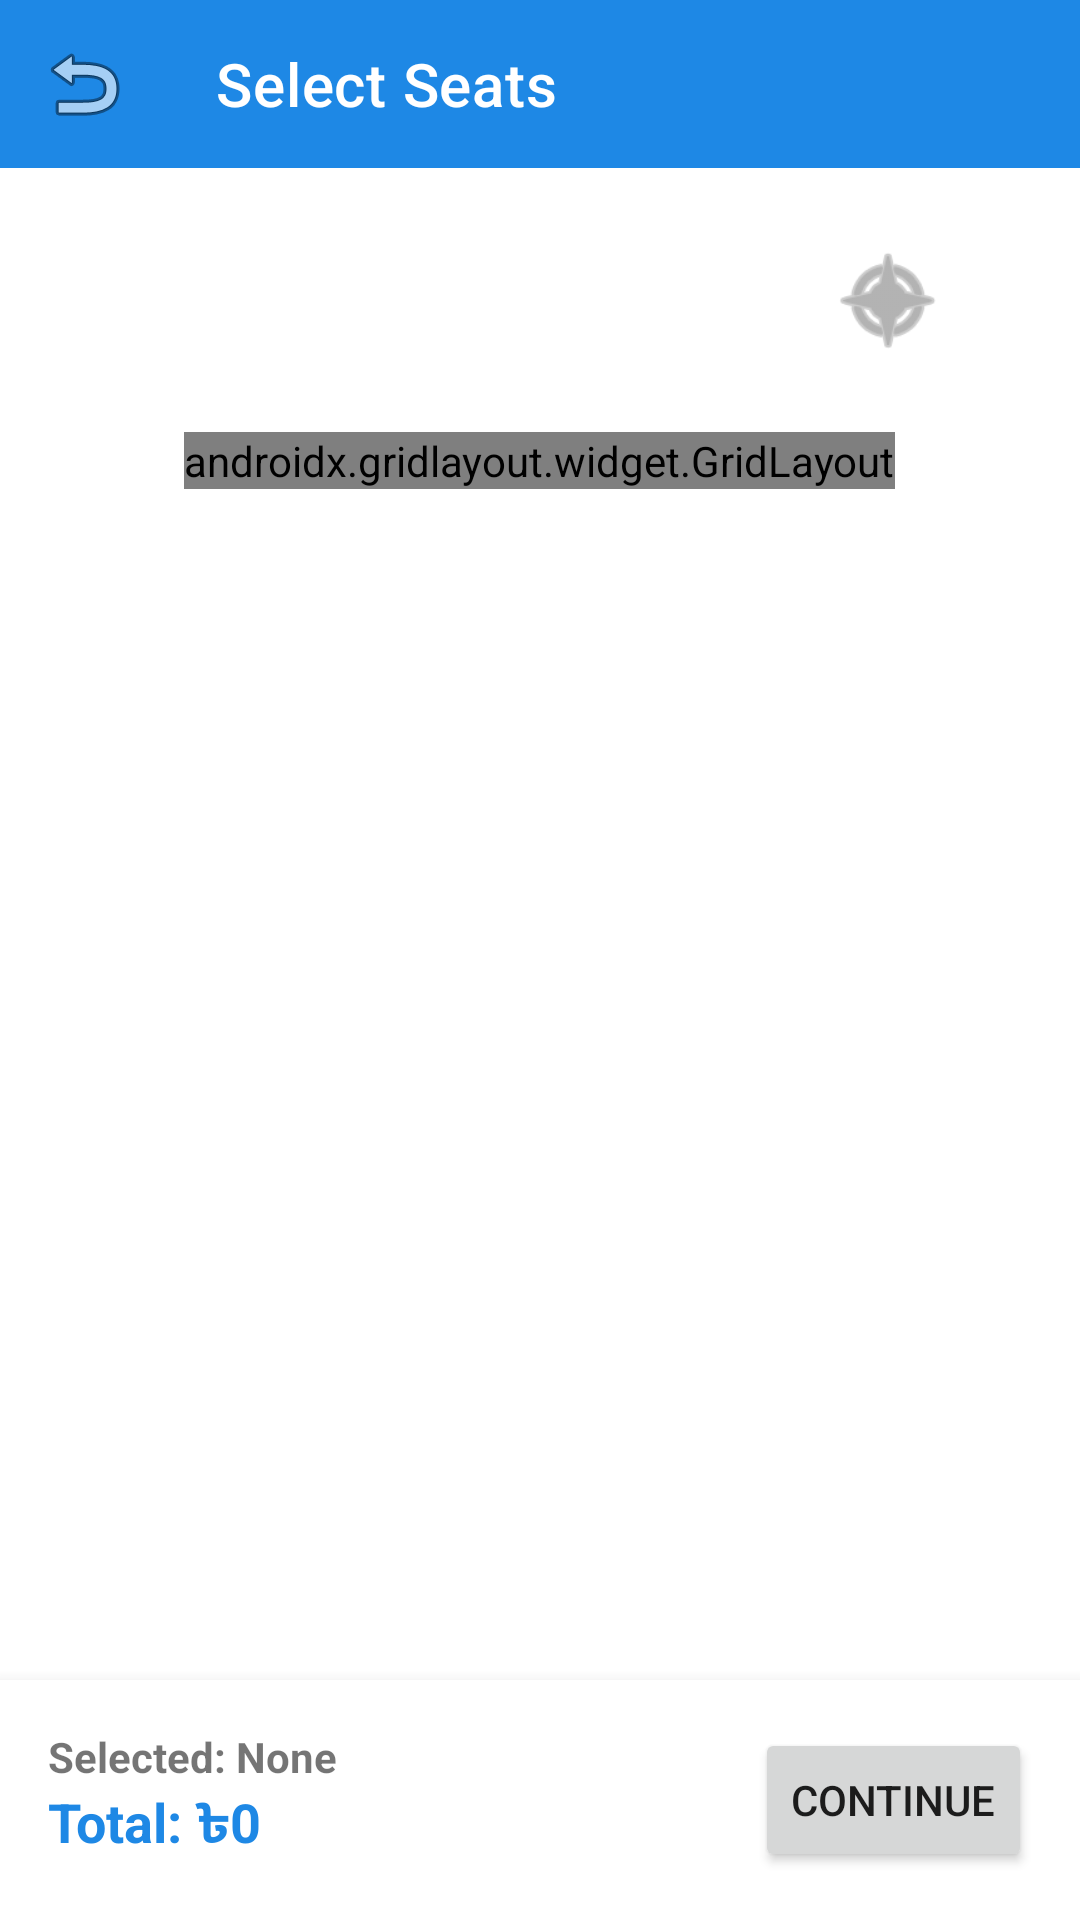

Screen size 1080px x 1920px. Icon name, then its box in pixels as (x1, y1, x2, y2):
compass: (840, 254, 935, 348)
